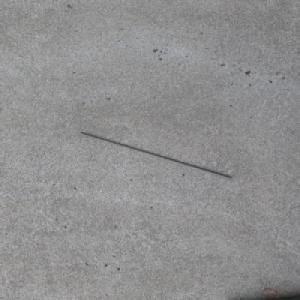LuggagePart: (78, 130, 233, 178)
